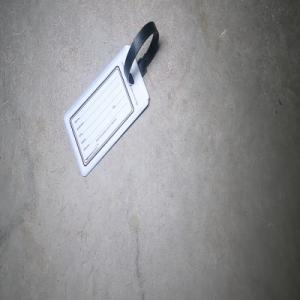LuggageTag: (61, 19, 160, 179)
